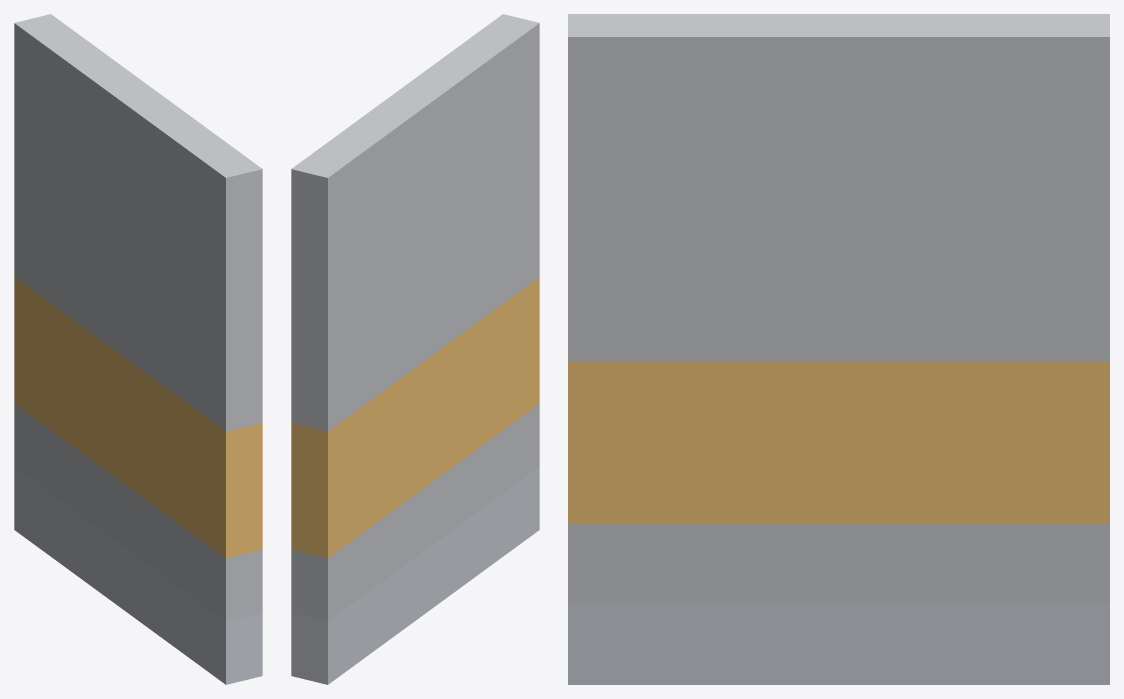
Rendered from new_corridor .glb.
3 views of the same model, side by side, from view 1: azimuth 30°, elevation 25°; view 2: azimuth 150°, elevation 25°; view 3: azimuth 270°, elevation 25° (orthographic). The views are drawn at different scales.
Visible parts, largest first — view 1: corridor_wall; view 2: corridor_wall; view 3: corridor_wall.
Boxes of the visible parts, <box> form: corridor_wall: <box>14,14,262,684</box>; corridor_wall: <box>291,14,539,684</box>; corridor_wall: <box>568,14,1109,684</box>.
Bounding box in the file's own units: 0.1 × 1.32 × 1.
